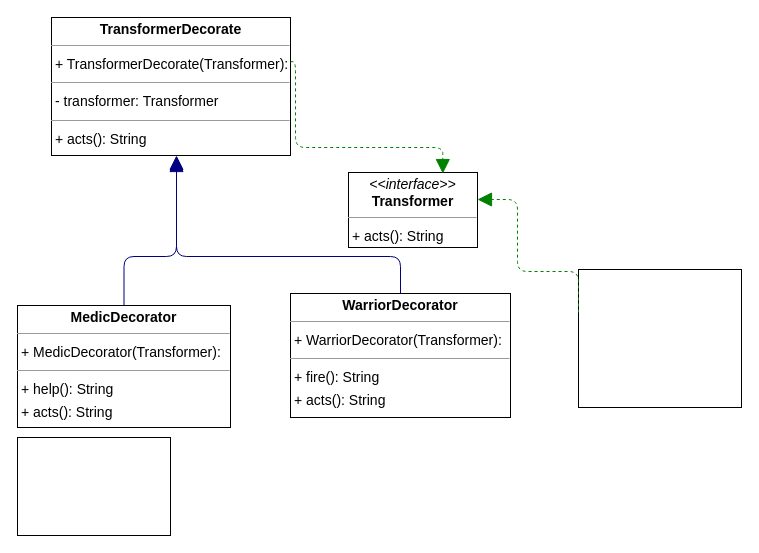
This 759x553 diagram has some shape labels left out. The shapes that lost their labels are listed below. From the top down, each one's centre as x and y in pixels, then its label:
point (660, 338): AutoBot + AutoBot(String): ~ transformation: String + acts(): String
point (93, 486): Main + Main(): + main(String[]): void
